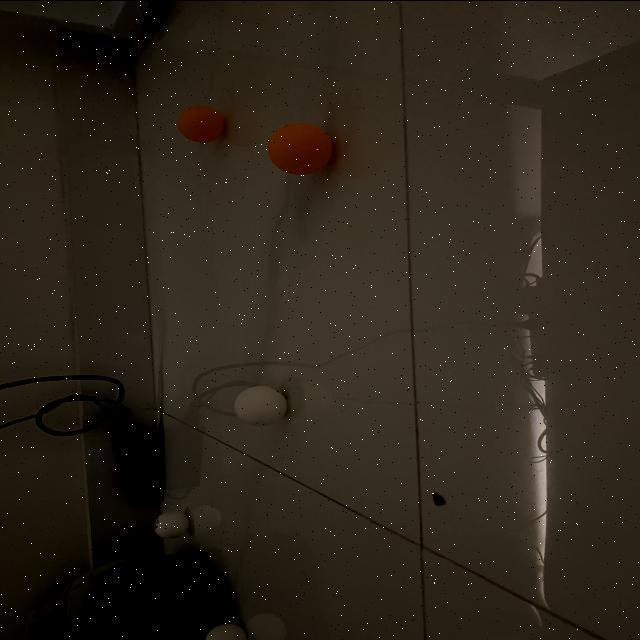ping-pong-ball: (266, 121, 334, 173), (236, 384, 288, 427), (174, 104, 224, 140), (154, 510, 190, 536), (204, 621, 250, 640)
